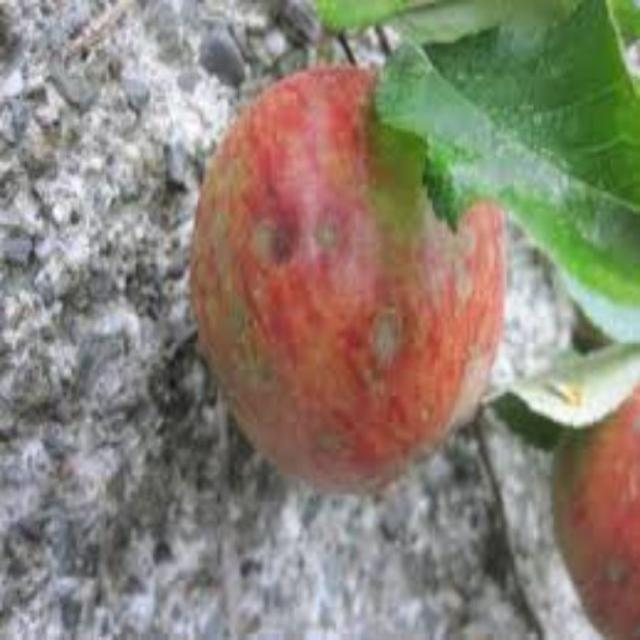Rotten Apple: (177, 55, 518, 476)
